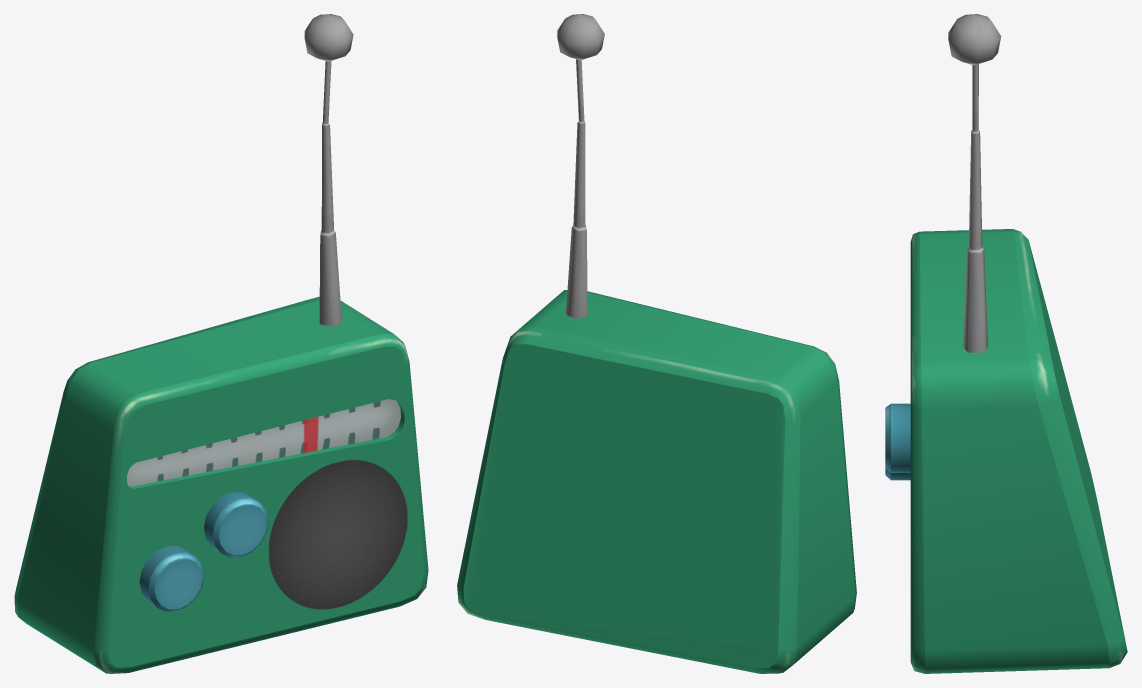
File: Radio.FBX
3 views of the same model, side by side, from view 1: azimuth 30°, elevation 25°; view 2: azimuth 150°, elevation 25°; view 3: azimuth 270°, elevation 25° (orthographic). The views are drawn at different scales.
Visible parts, largest first — view 1: Radio; view 2: Radio; view 3: Radio.
Part boxes in pixels (bbox=[...]): Radio: bbox=[14, 14, 428, 673]; Radio: bbox=[457, 14, 856, 673]; Radio: bbox=[885, 14, 1127, 673].
Bounding box in the file's own units: 45.48 × 74.22 × 25.9.
